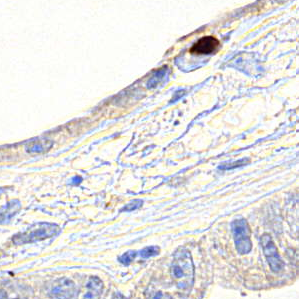Lymphocyte: (189, 36, 223, 56)
